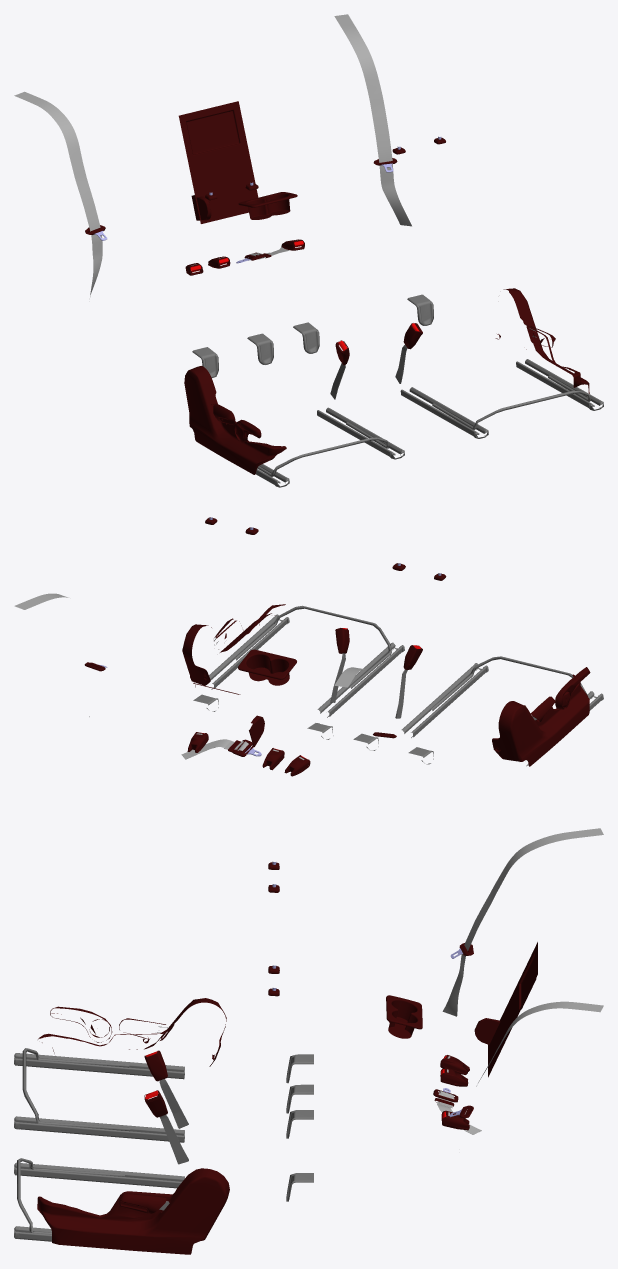
Rendered from TOYOTA_URBAN_CRUISER_IN_SEAT_MECH.glb.
3 renders of one model, top to bottom at view 1: azimuth 30°, elevation 25°; view 2: azimuth 150°, elevation 25°; view 3: azimuth 270°, elevation 25°, orthographic. The views are drawn at different scales.
Visible parts, largest first — view 1: TOYOTA_URBAN_CRUISER_IN_SEAT_MECH; view 2: TOYOTA_URBAN_CRUISER_IN_SEAT_MECH; view 3: TOYOTA_URBAN_CRUISER_IN_SEAT_MECH.
Boxes of the visible parts, x1,y1,x2,y2 form: TOYOTA_URBAN_CRUISER_IN_SEAT_MECH: (14,14,603,487); TOYOTA_URBAN_CRUISER_IN_SEAT_MECH: (14,517,603,776); TOYOTA_URBAN_CRUISER_IN_SEAT_MECH: (14,828,603,1254).
Size of the model in its own units: 1.25 by 0.7681 by 1.68.
